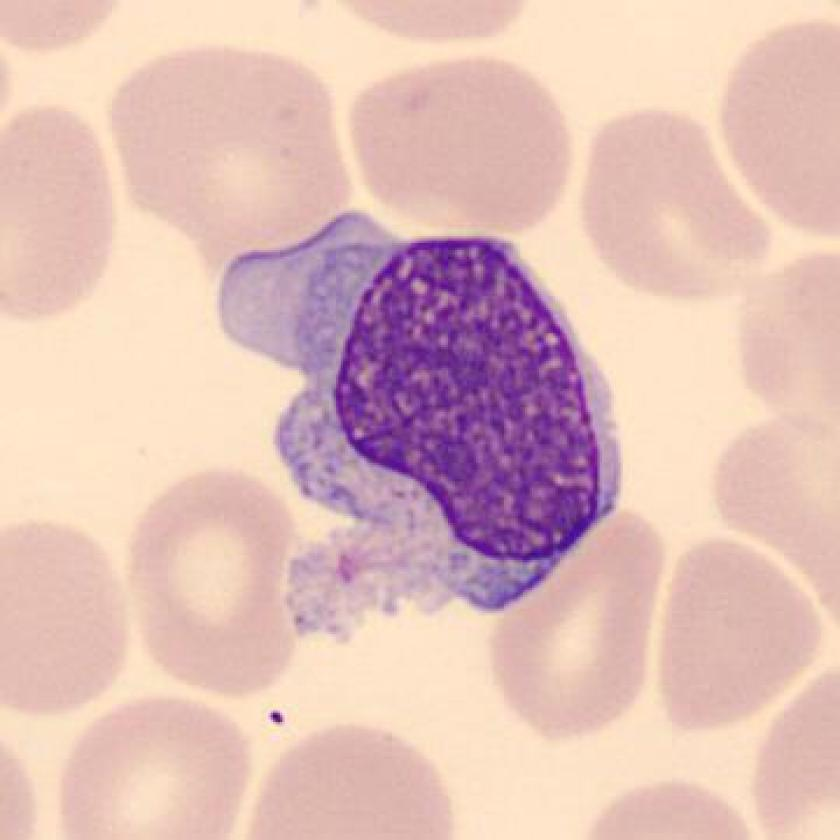monocyte: (190, 198, 645, 654)
